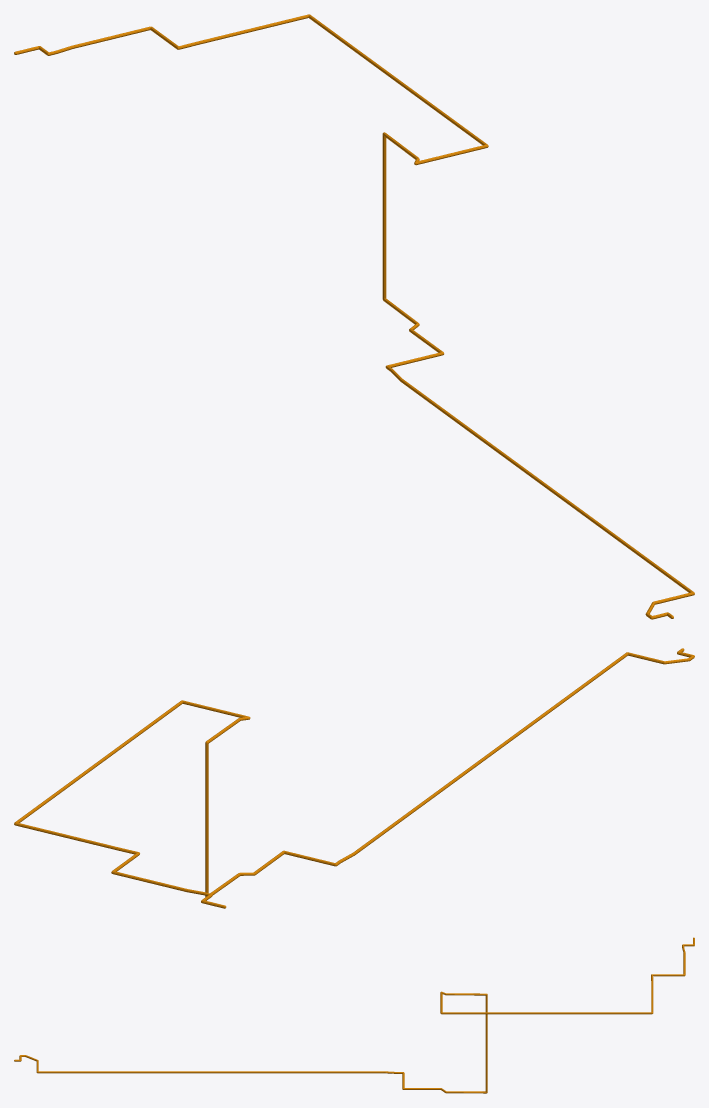
3 views of the same model, one above another, from view 1: azimuth 30°, elevation 25°; view 2: azimuth 150°, elevation 25°; view 3: azimuth 270°, elevation 25° (orthographic). The views are drawn at different scales.
Size of the model in its own units: 1655 by 1020 by 6301.
